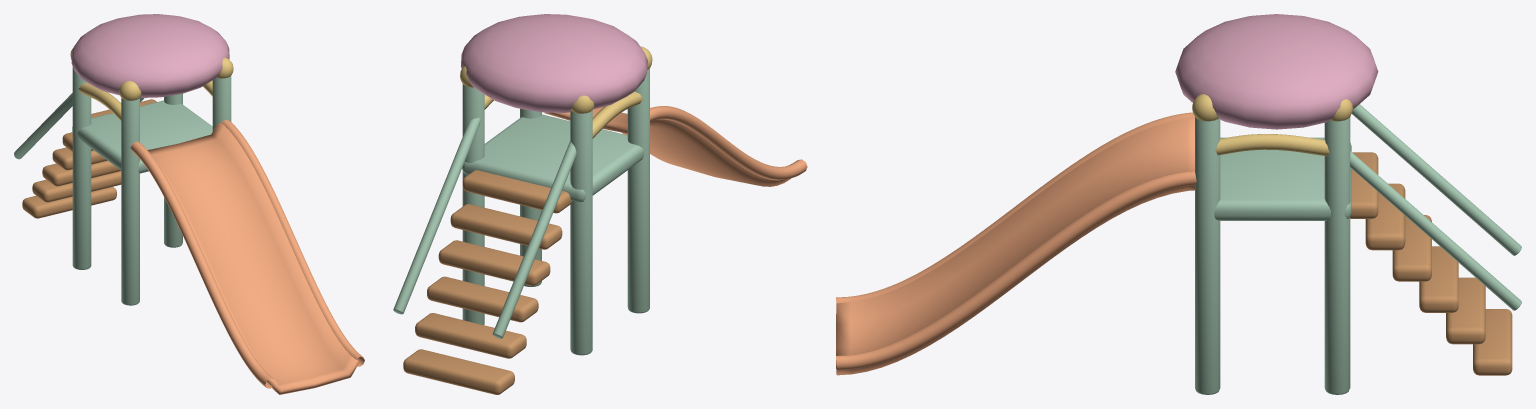
File: slide.glb
3 views of the same model, side by side, from view 1: azimuth 30°, elevation 25°; view 2: azimuth 150°, elevation 25°; view 3: azimuth 270°, elevation 25° (orthographic). The views are drawn at different scales.
Visible parts, largest first — view 1: AssetSurface; view 2: AssetSurface; view 3: AssetSurface.
Part boxes in pixels (x1=…): AssetSurface: x1=14, y1=14, x2=364, y2=394; AssetSurface: x1=393, y1=14, x2=807, y2=394; AssetSurface: x1=836, y1=14, x2=1521, y2=394.
Size of the model in its own units: 1.54 by 2.54 by 4.86.
